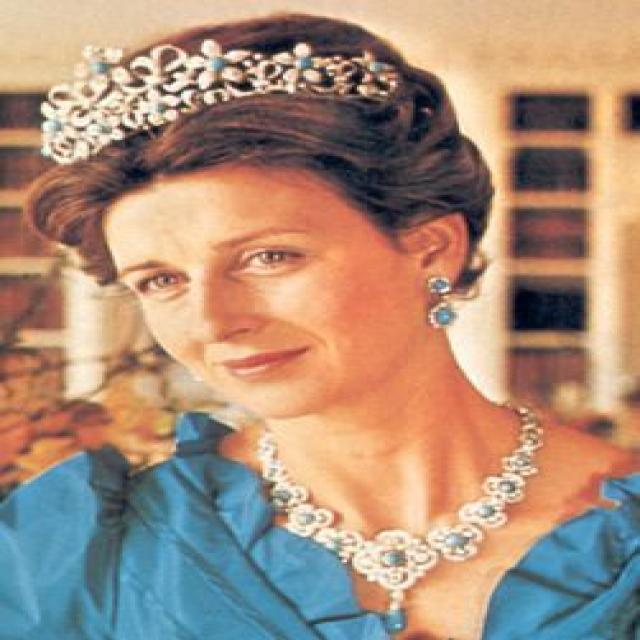Earring: (409, 252, 469, 336)
